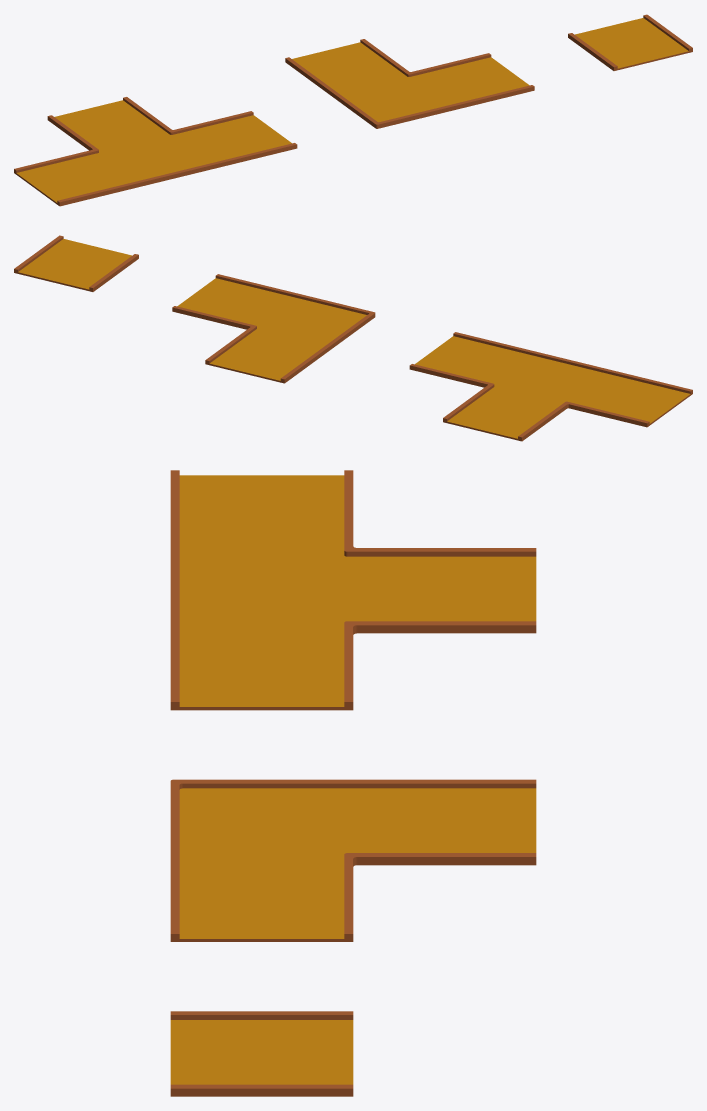
The model's file is Roads_Fixed.fbx.
3 views of the same model, one above another, from view 1: azimuth 30°, elevation 25°; view 2: azimuth 150°, elevation 25°; view 3: azimuth 270°, elevation 25° (orthographic). The views are drawn at different scales.
Visible parts, largest first — view 1: Cube.005, Cube.011, Cube.006; view 2: Cube.005, Cube.011, Cube.006; view 3: Cube.005, Cube.011, Cube.006.
Boxes of the visible parts, x1=… form: Cube.005: x1=14, y1=97, x2=297, y2=206; Cube.011: x1=285, y1=39, x2=534, y2=128; Cube.006: x1=568, y1=14, x2=692, y2=70; Cube.005: x1=409, y1=332, x2=692, y2=441; Cube.011: x1=172, y1=274, x2=375, y2=383; Cube.006: x1=14, y1=235, x2=138, y2=291; Cube.005: x1=170, y1=470, x2=536, y2=710; Cube.011: x1=170, y1=779, x2=536, y2=941; Cube.006: x1=170, y1=1011, x2=353, y2=1096.
Size of the model in its own units: 1600 by 10 by 400.
